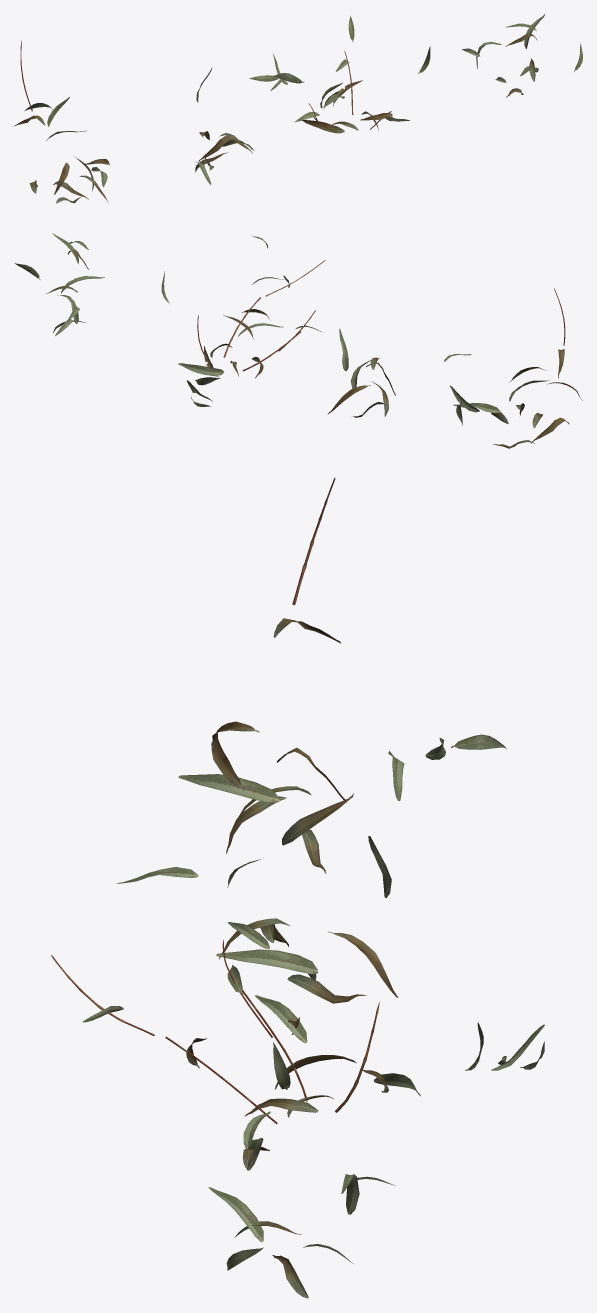
Rendered from kf_shrub_b.glb.
3 views of the same model, one above another, from view 1: azimuth 30°, elevation 25°; view 2: azimuth 150°, elevation 25°; view 3: azimuth 270°, elevation 25° (orthographic). The views are drawn at different scales.
Parts seen in each view (by area): view 1: shrub_02_c, shrub_02_a, shrub_02_d, shrub_02_b; view 2: shrub_02_c, shrub_02_a, shrub_02_b, shrub_02_d; view 3: shrub_02_a, shrub_02_c, shrub_02_b, shrub_02_d.
Part boxes in pixels (<box>): shrub_02_c: <box>249,15,430,133</box>; shrub_02_a: <box>14,40,109,203</box>; shrub_02_d: <box>462,14,582,97</box>; shrub_02_b: <box>195,67,253,184</box>; shrub_02_c: <box>161,235,325,406</box>; shrub_02_a: <box>450,288,582,448</box>; shrub_02_b: <box>328,328,471,417</box>; shrub_02_d: <box>15,233,104,335</box>; shrub_02_a: <box>178,477,506,873</box>; shrub_02_c: <box>51,859,544,1124</box>; shrub_02_b: <box>116,836,397,1003</box>; shrub_02_d: <box>208,1111,395,1298</box>.
Bounding box in the file's own units: 5.81 × 1.74 × 2.27.
Materials: 1 (1 with a texture image).
